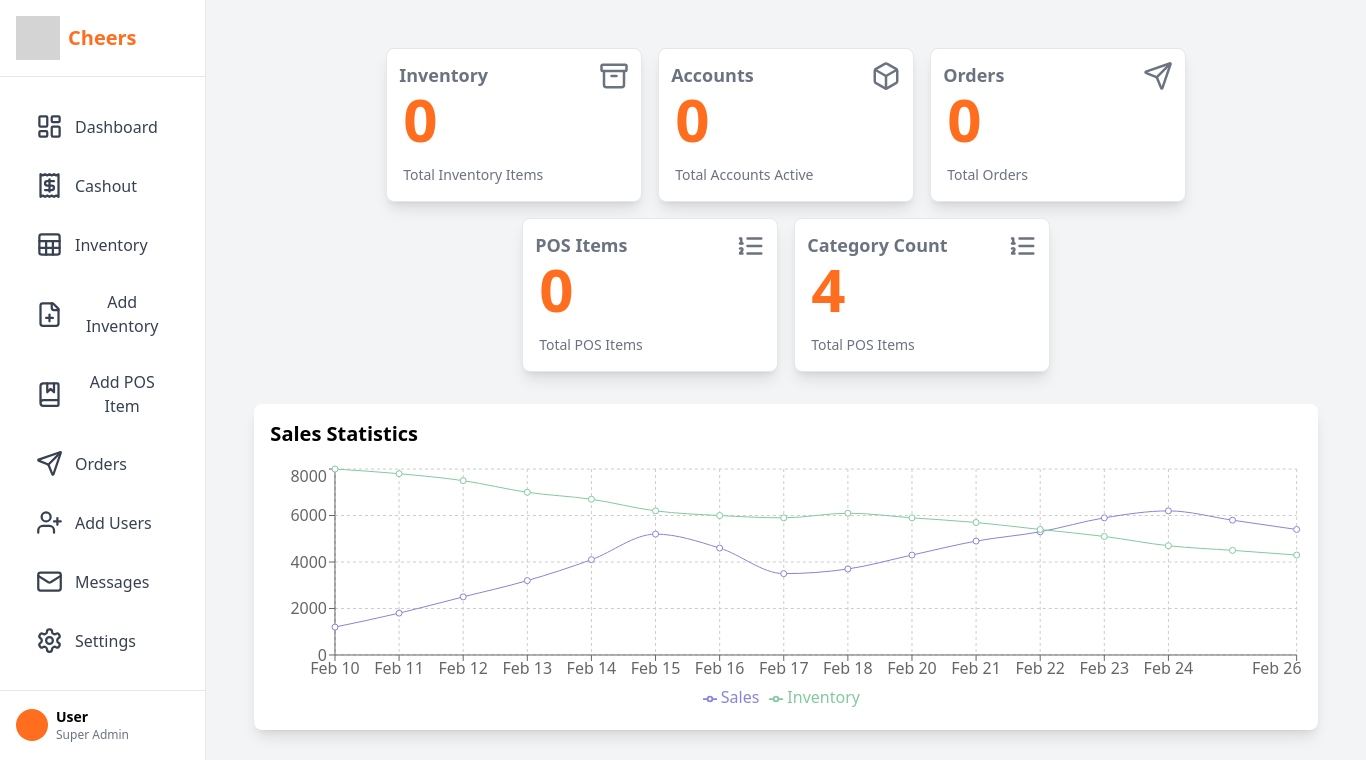
Test: tc:045: all pages load › passes if Cashout button navigates to Cashout page
Click the button "Cashout" at [103, 186], box [20,156,185,215]
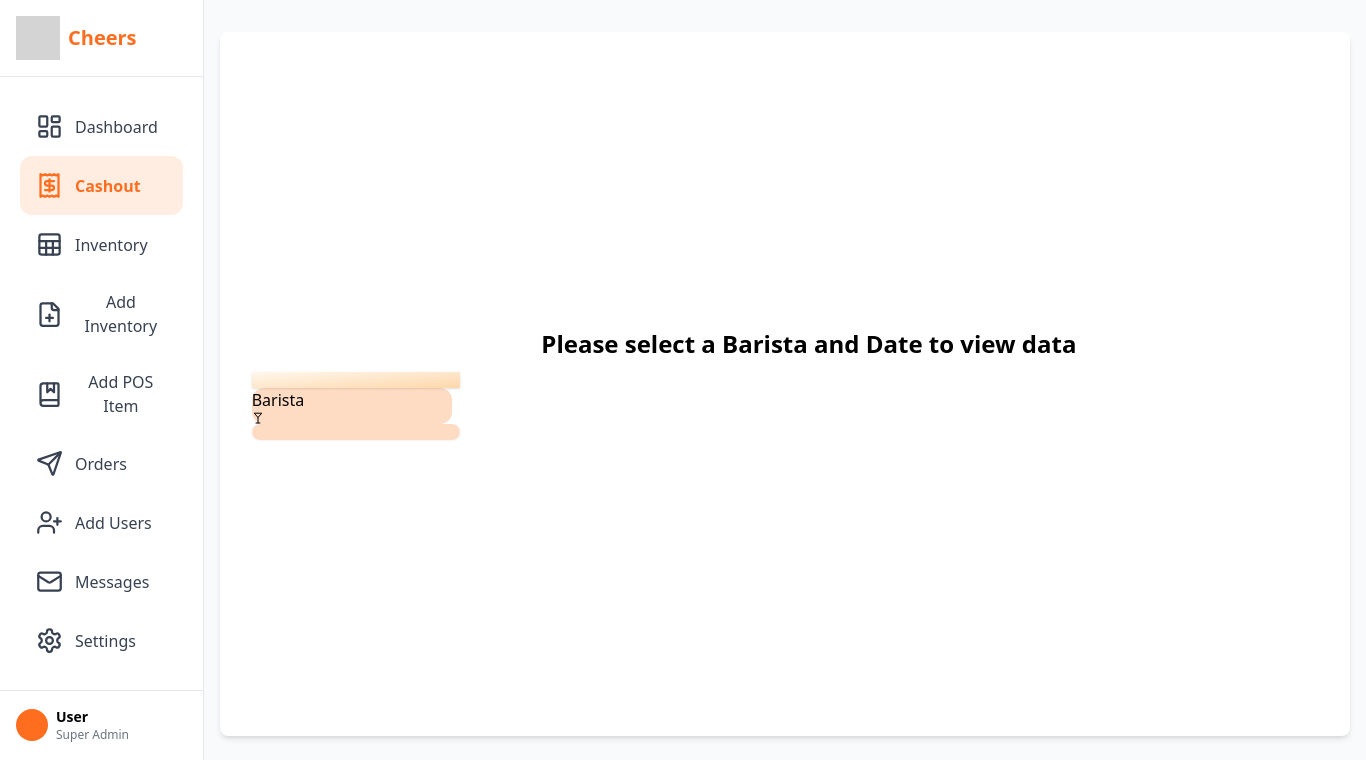
Expected: the heading "Please select a Barista and Date to view data" is shown, [541,328,1076,360]
